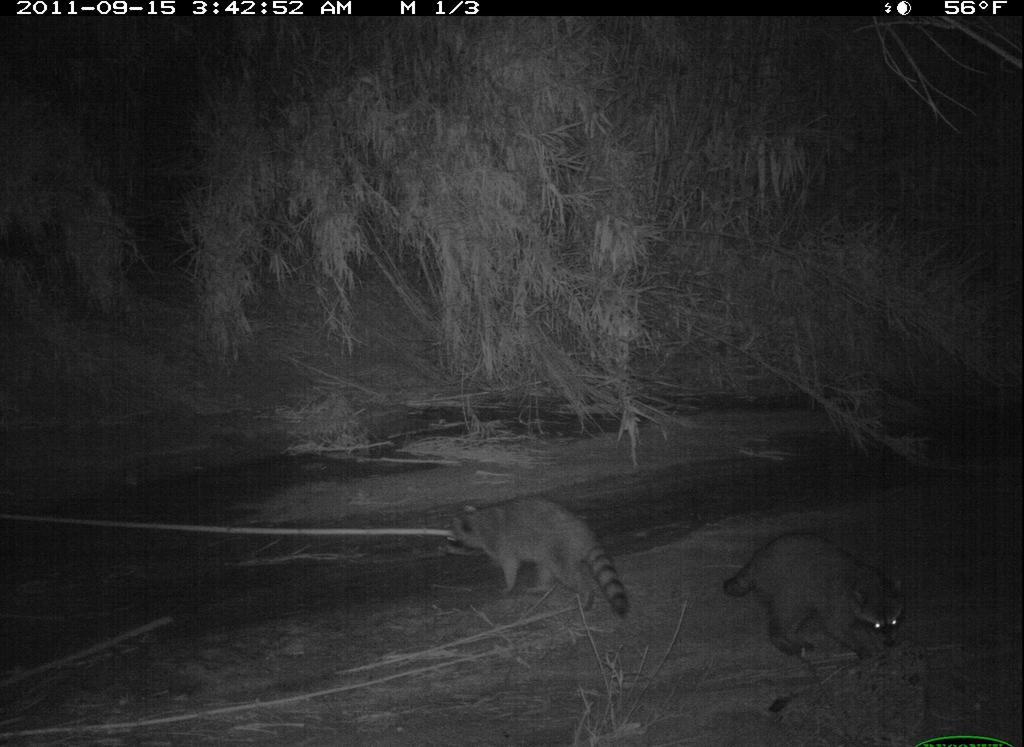raccoon: (717, 523, 930, 666), (449, 493, 633, 624)
